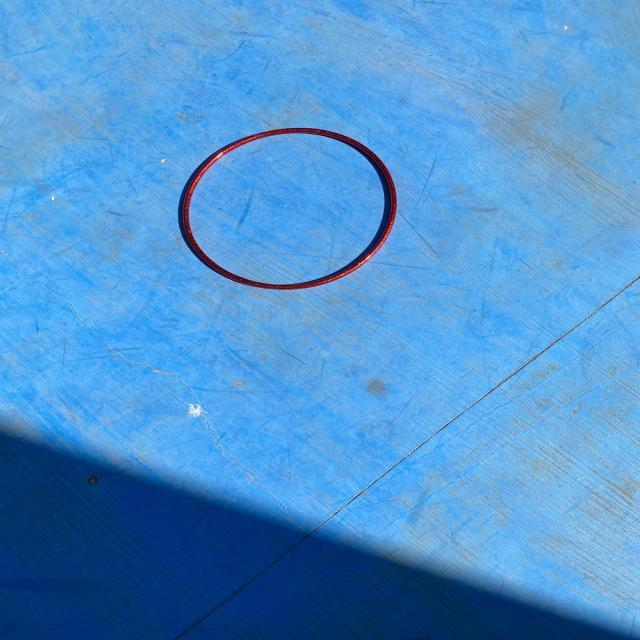Circle: (176, 127, 397, 290)
